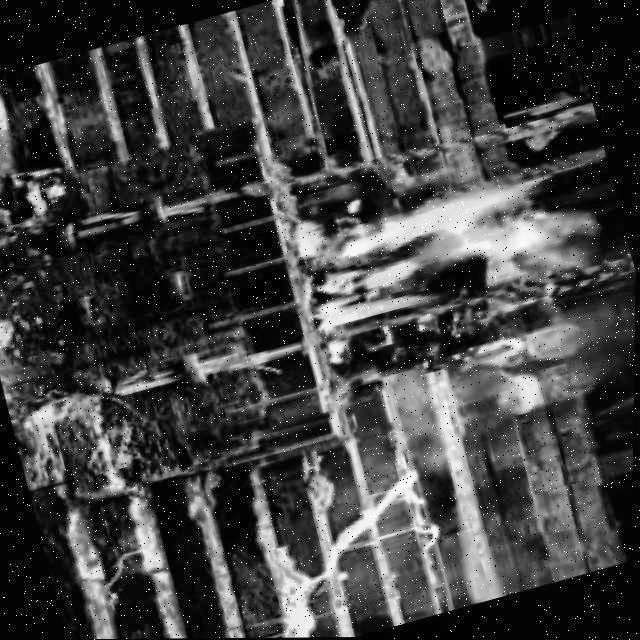Fire: (288, 165, 572, 343)
